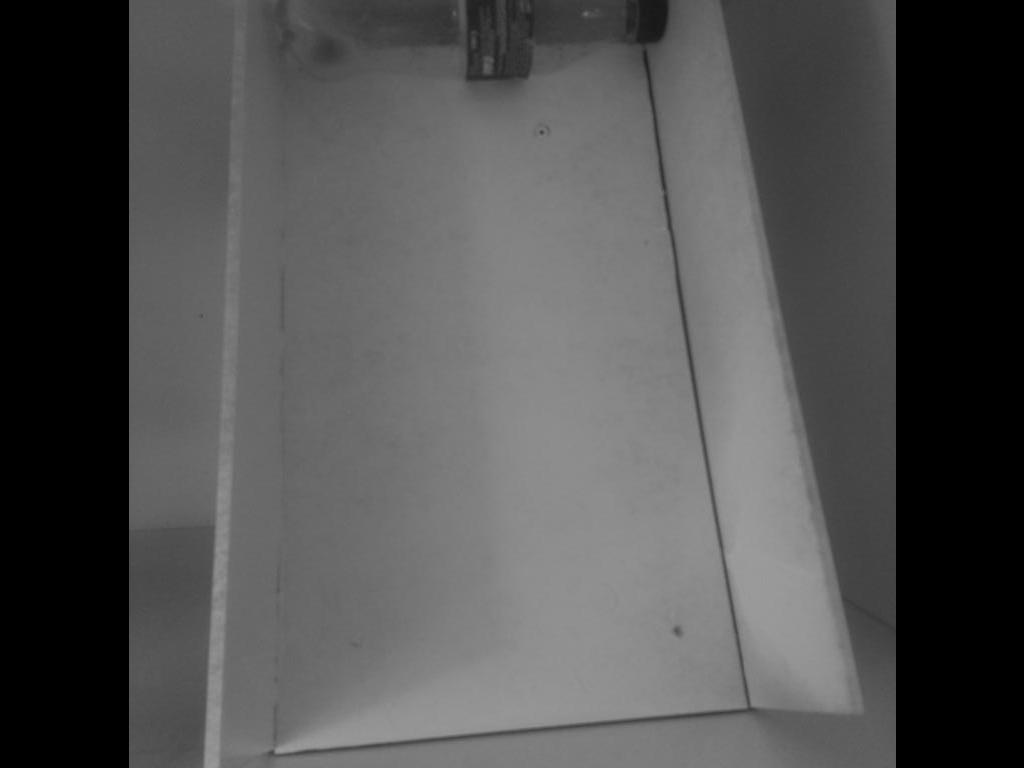bottle: (269, 0, 675, 93)
